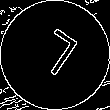L_SW: (28, 25, 82, 85)
